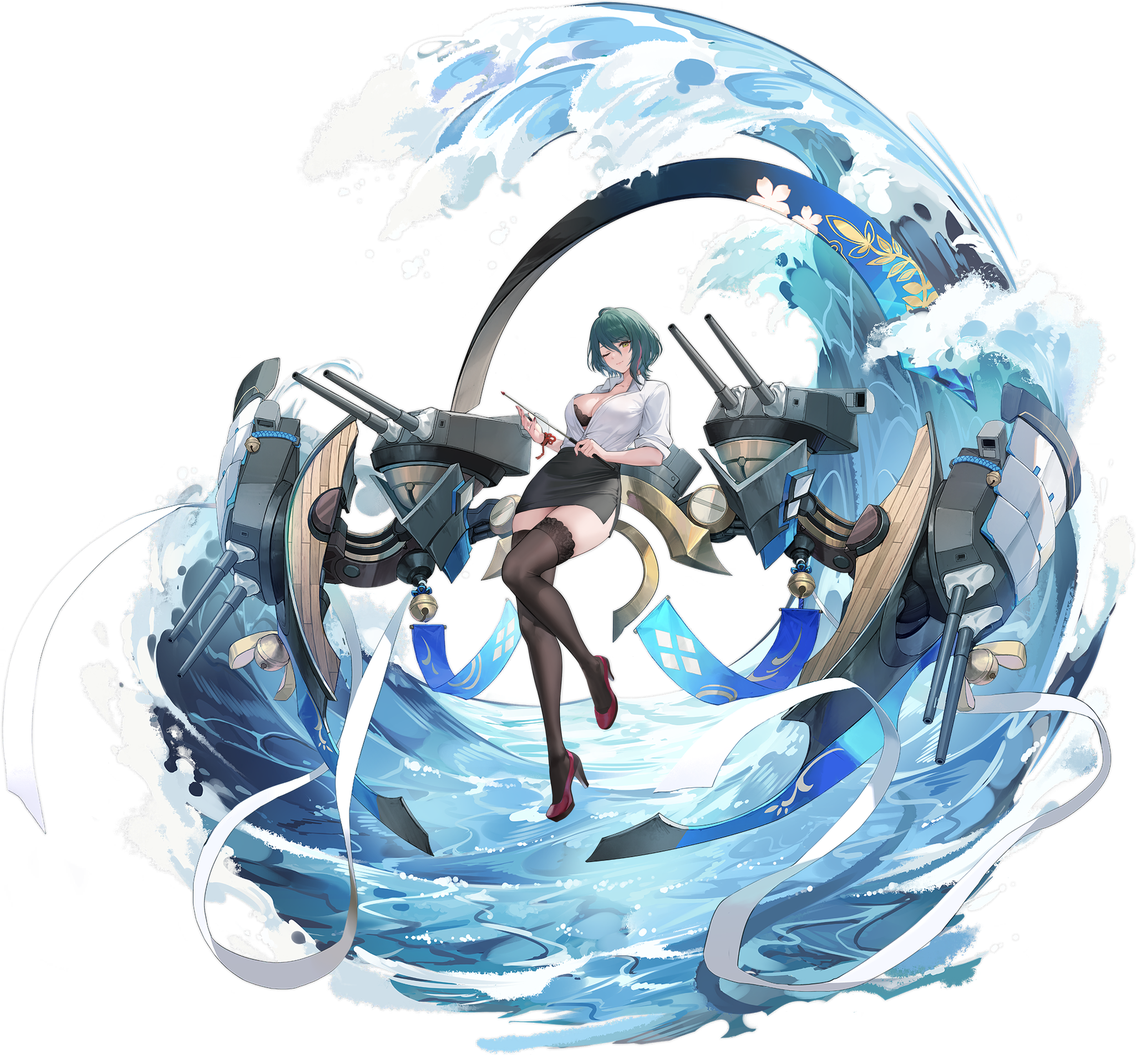person: (434, 279, 767, 847)
